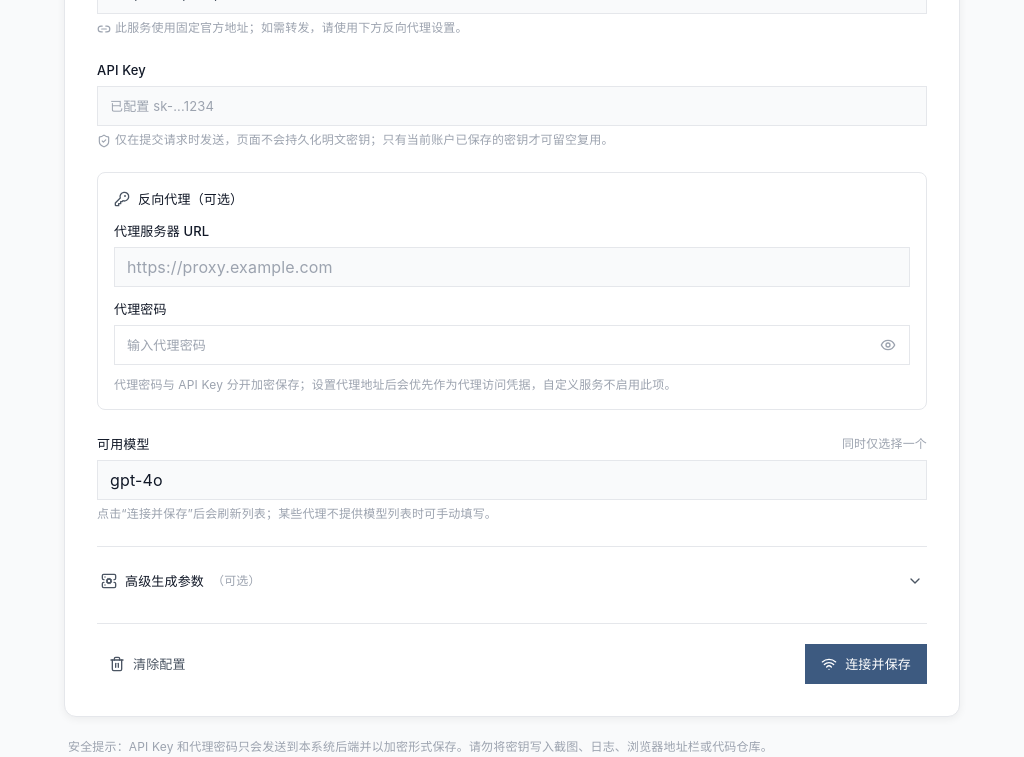
Scenario: AiConfig › rehydrates the account configuration after a successful connection is saved
This screenshot has width=1024, height=757.
(page scrolled)
Click the button "连接并保存". click: (866, 664)
box: top-left (805, 644), bottom-right (927, 684)
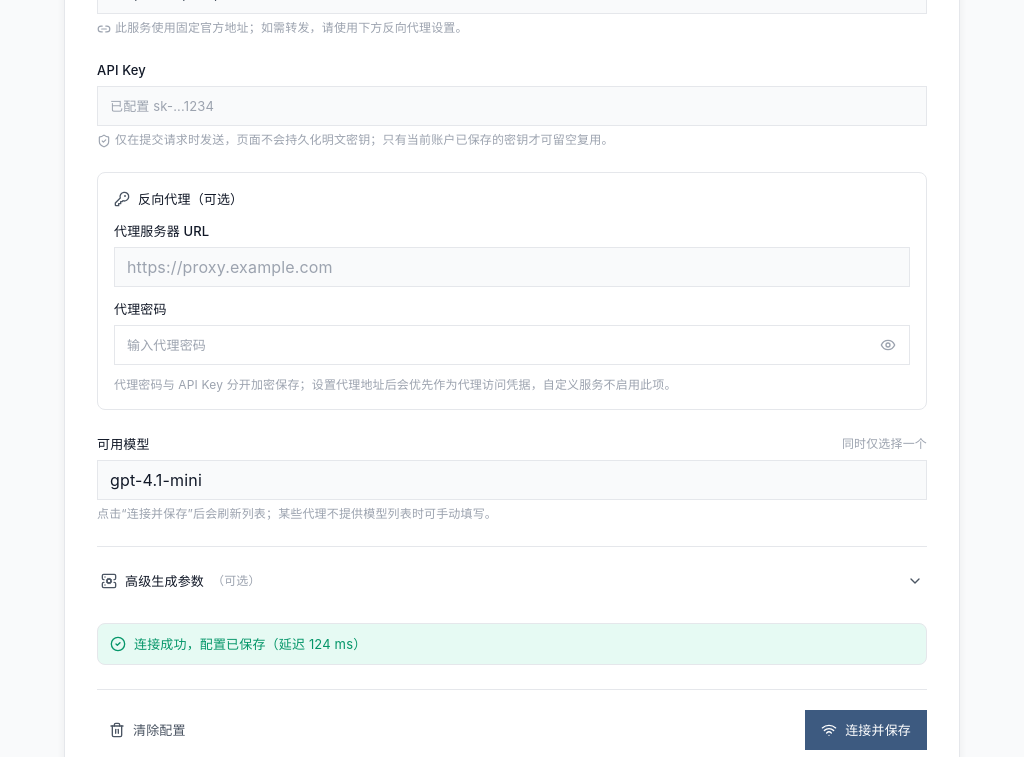
Now the dropdown labelled "可用模型" shows "gpt-4.1-mini", box top-left (97, 460), bottom-right (927, 500)
